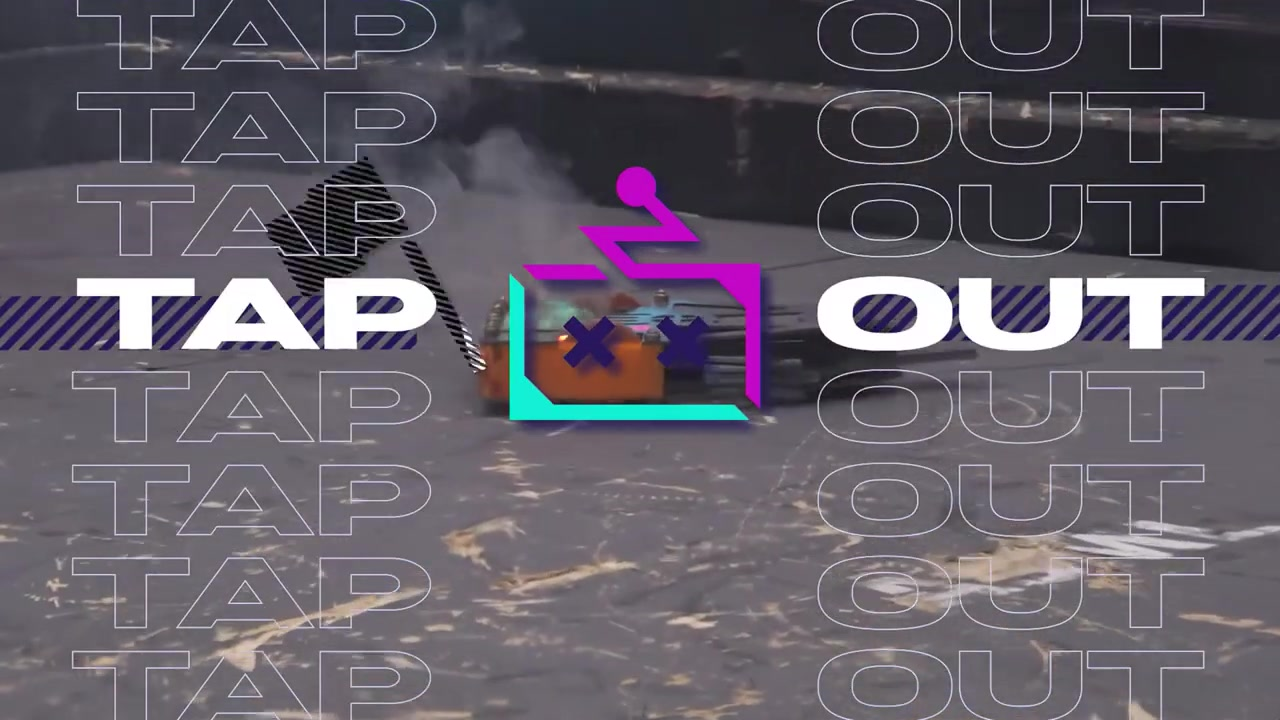combatbot: (481, 292, 888, 402)
